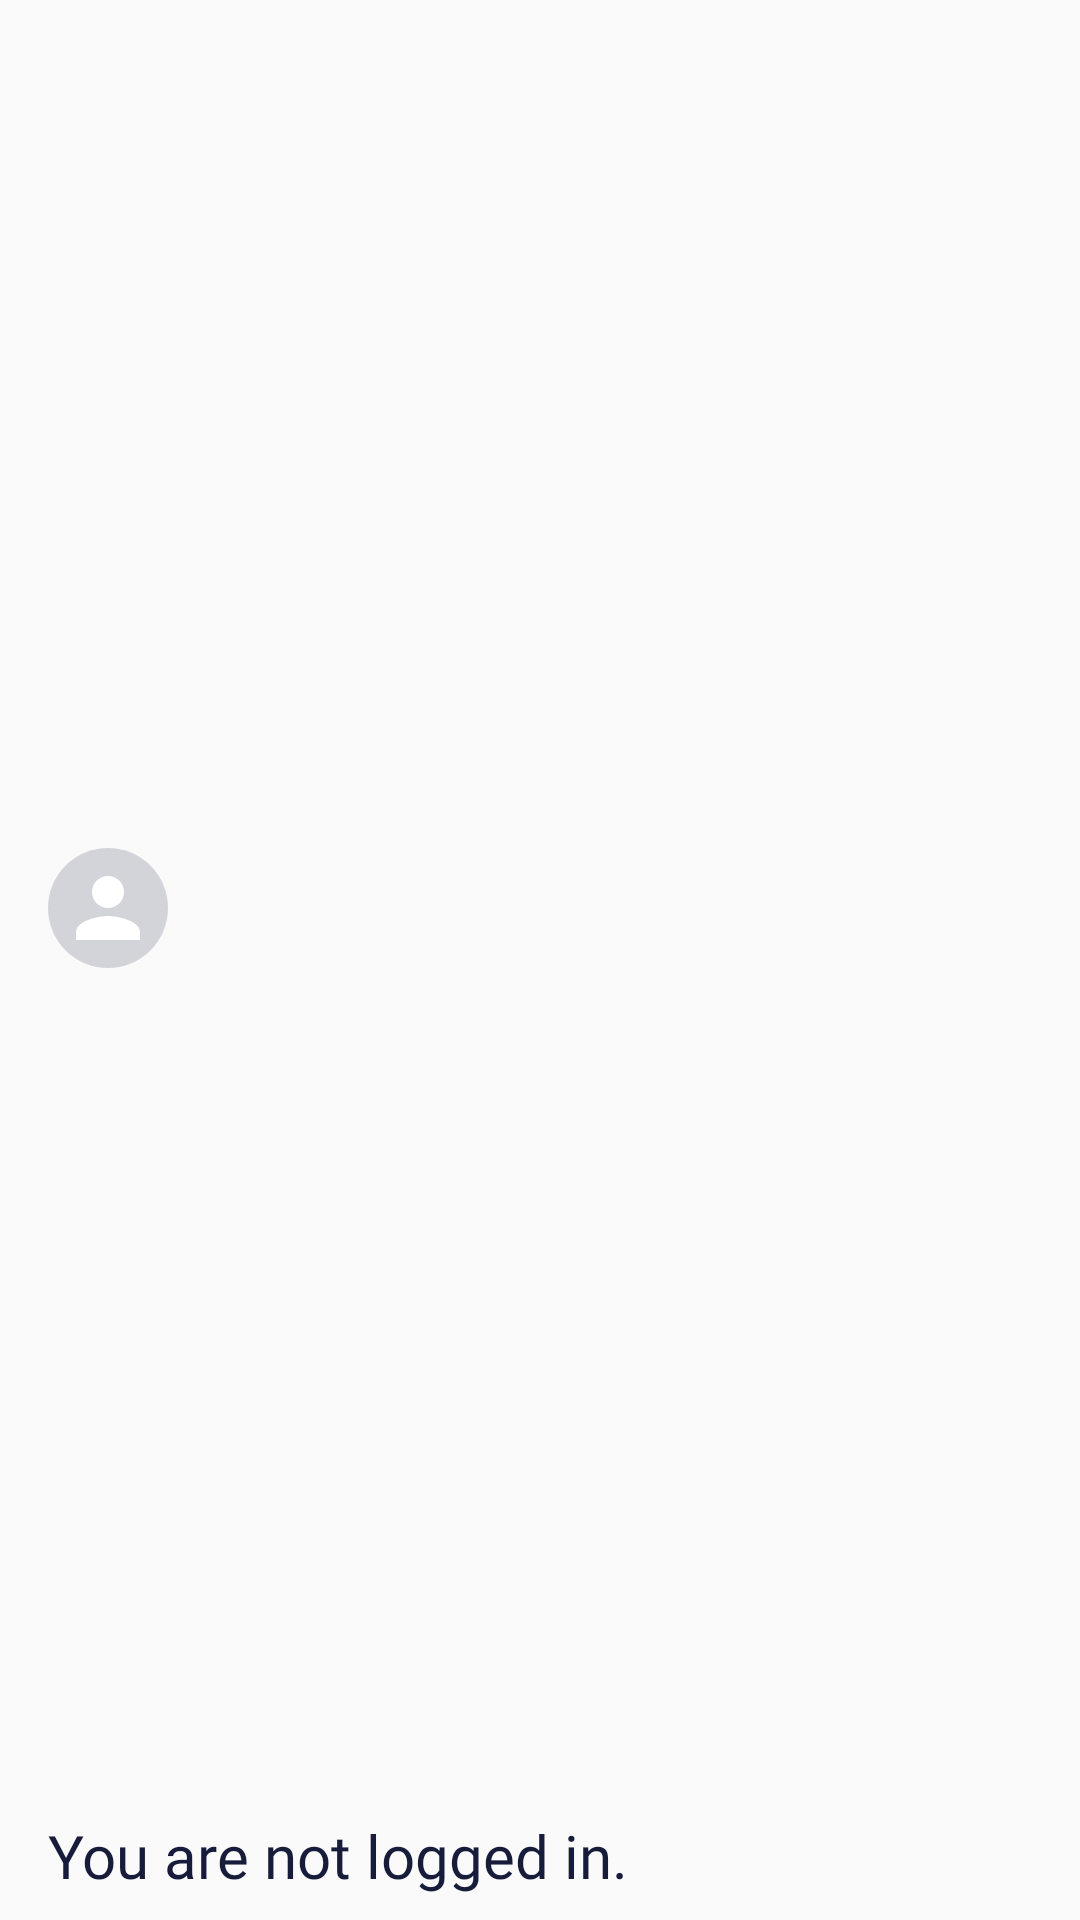

Icons on this 1080×1920 Android screen, each with its box as (x1, y1, x2, y2):
person: (48, 848, 168, 968)
